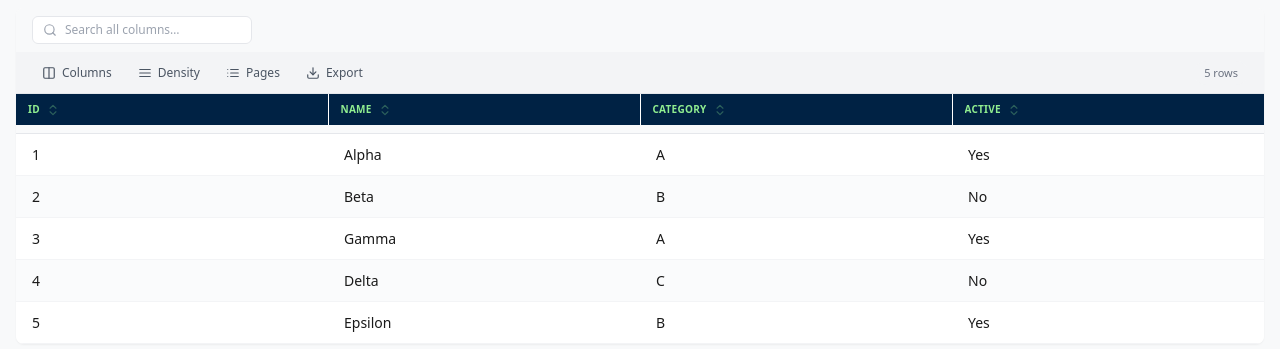
Scenario: DataTable › filters rows when typing in the global search
The image size is (1280, 349).
Type "Alpha" into the field with placeholder "Search all columns…" at (153, 30), box [65,22,241,38]
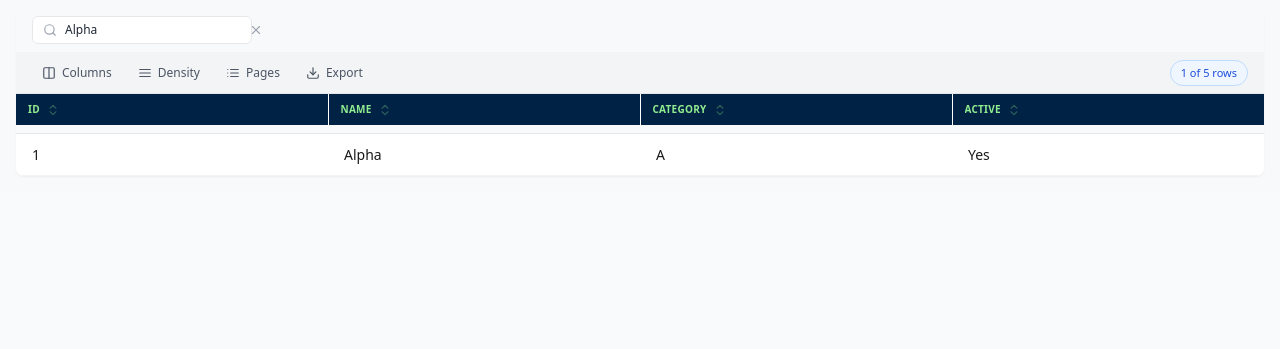
Expected: the text "Alpha" is shown, [344,145,382,164]
Expected: the text "Beta" is gone
Expected: the text "Gamma" is gone
